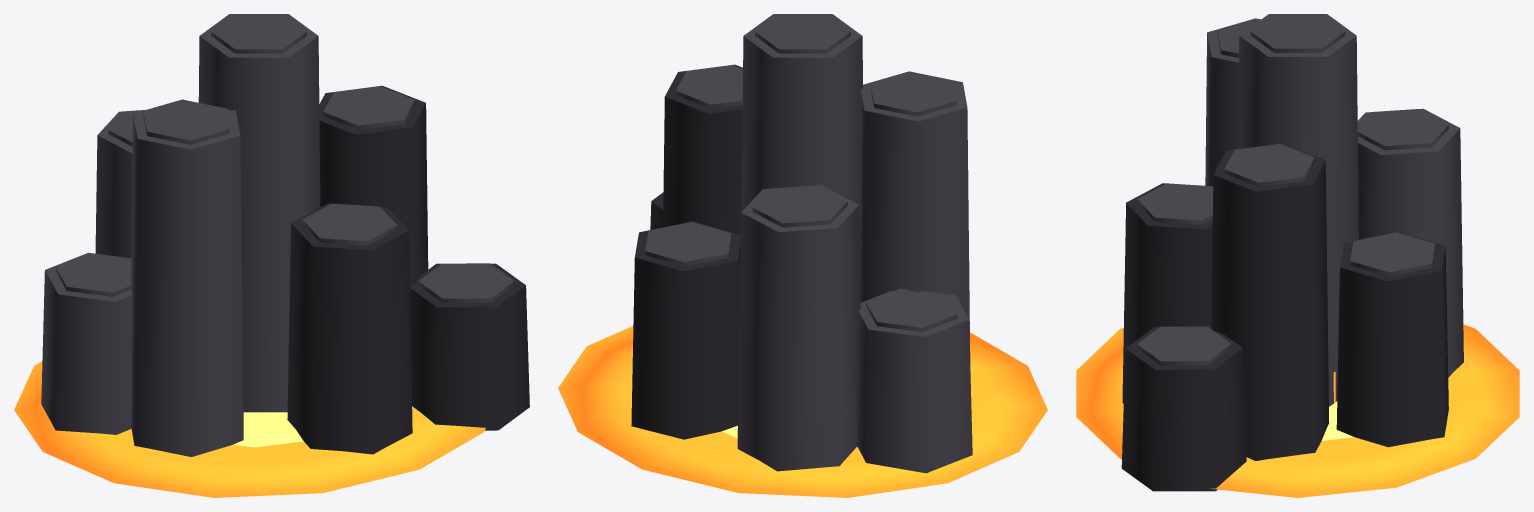
Rendered from BasaltColumns.glb.
The picture shows the model from 3 angles, left to right: view 1: azimuth 30°, elevation 25°; view 2: azimuth 150°, elevation 25°; view 3: azimuth 270°, elevation 25°; orthographic projection.
Visible parts, largest first — view 1: Body, Glow, GlowCore; view 2: Body, Glow; view 3: Body, Glow.
Part boxes in pixels (bbox=[...]): Body: bbox=[41, 14, 529, 456]; Glow: bbox=[14, 361, 485, 497]; GlowCore: bbox=[233, 412, 303, 447]; Body: bbox=[631, 14, 972, 473]; Glow: bbox=[558, 326, 1047, 497]; Body: bbox=[1121, 14, 1463, 491]; Glow: bbox=[1076, 324, 1519, 497].
Size of the model in its own units: 5.2 by 4.3 by 4.68.
Materials: 3 (1 with a texture image).
